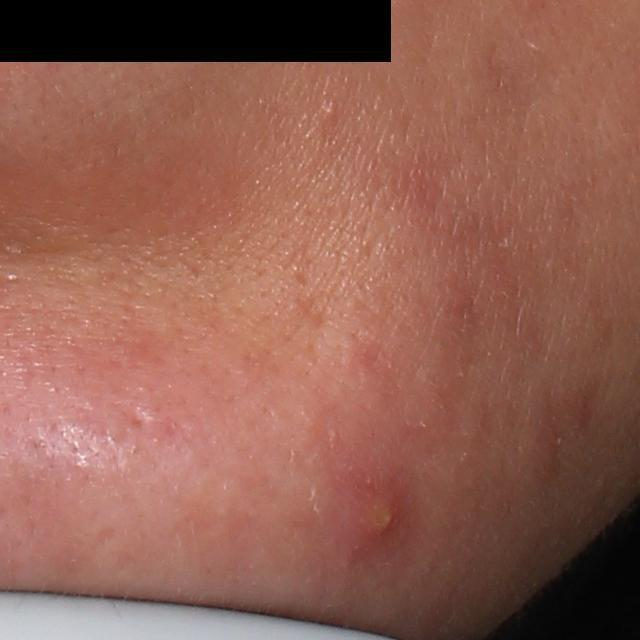atrophic_scar: (122, 407, 149, 431)
comedo: (321, 100, 337, 121)
